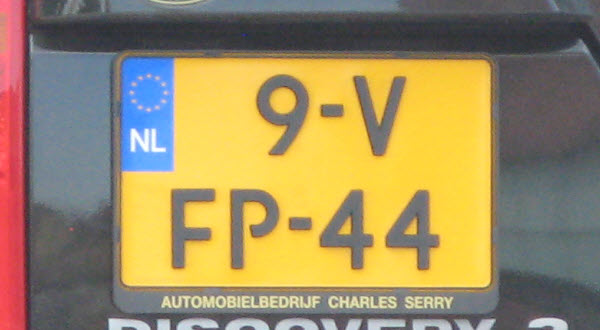license_plate: (117, 52, 495, 292)
